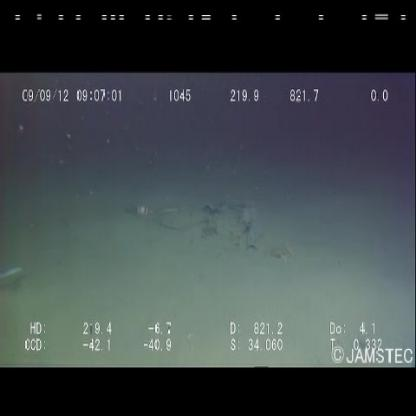Rác: (135, 201, 154, 222)
